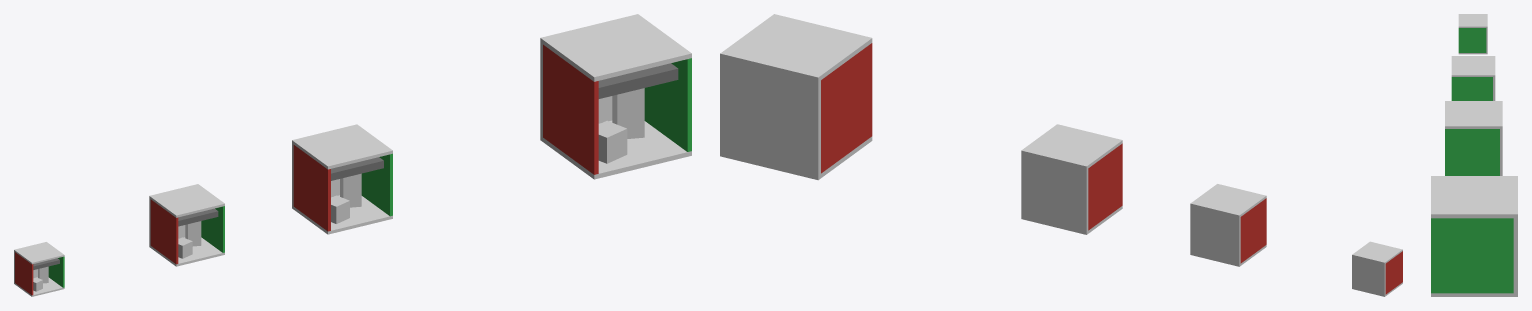
File: LargeScene.gltf
The picture shows the model from 3 angles, left to right: view 1: azimuth 30°, elevation 25°; view 2: azimuth 150°, elevation 25°; view 3: azimuth 270°, elevation 25°; orthographic projection. The views are drawn at different scales.
Visible parts, largest first — view 1: Ceiling (×4), Left Wall (×4), Right Wall (×3), Floor (×3), Ceiling Emitter (×2), Tall Block (×2), Short Block (×2), Back Wall; view 2: Back Wall (×4), Ceiling (×4), Left Wall (×4), Floor; view 3: Right Wall (×4), Ceiling (×4), Back Wall (×3), Floor.
Boxes of the visible parts, box(x1,y1,x2,y2) form: Ceiling (×4): box(14, 14, 691, 264); Left Wall (×4): box(15, 44, 598, 295); Right Wall (×3): box(201, 58, 691, 252); Floor (×3): box(149, 120, 691, 266); Ceiling Emitter (×2): box(331, 63, 678, 180); Tall Block (×2): box(340, 88, 644, 207); Short Block (×2): box(331, 120, 627, 223); Back Wall: box(540, 43, 612, 136); Back Wall (×4): box(720, 58, 1385, 295); Ceiling (×4): box(720, 14, 1402, 264); Left Wall (×4): box(821, 43, 1402, 294); Floor: box(720, 136, 872, 180); Right Wall (×4): box(1431, 28, 1513, 293); Ceiling (×4): box(1431, 14, 1517, 218); Back Wall (×3): box(1493, 77, 1517, 293); Floor: box(1431, 293, 1517, 296).
Bounding box in the file's own units: 174 × 26.4 × 25.2.
